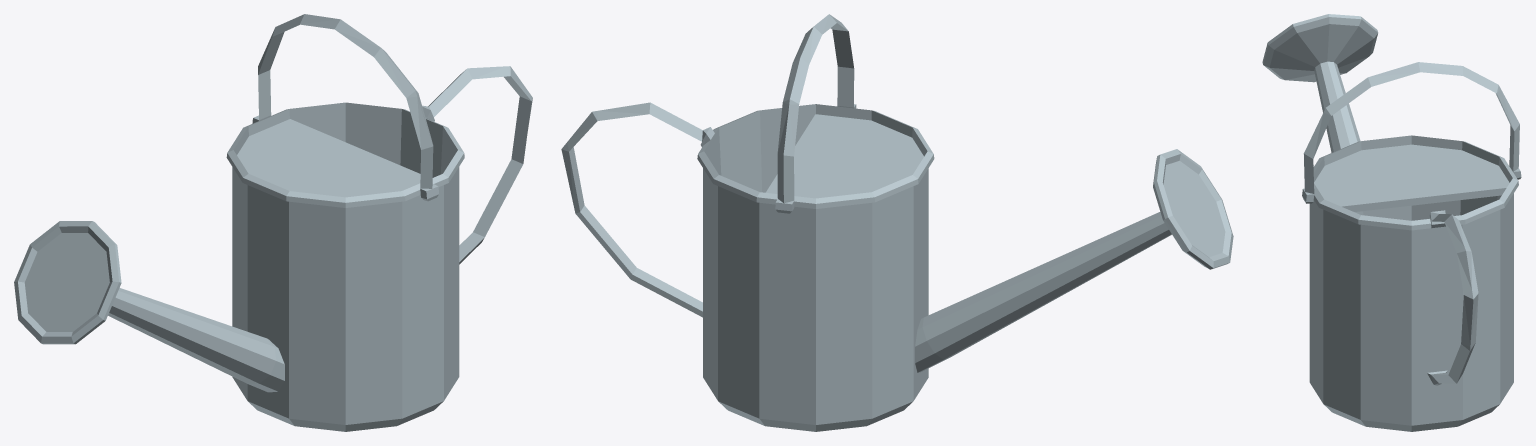
The model's file is Watercan.fbx.
The picture shows the model from 3 angles, left to right: view 1: azimuth 30°, elevation 25°; view 2: azimuth 150°, elevation 25°; view 3: azimuth 270°, elevation 25°; orthographic projection. The views are drawn at different scales.
Visible parts, largest first — view 1: WaterCan; view 2: WaterCan; view 3: WaterCan.
Part boxes in pixels (<box>): WaterCan: <box>14,14,532,431</box>; WaterCan: <box>561,14,1233,431</box>; WaterCan: <box>1262,14,1521,431</box>.
Bounding box in the file's own units: 8.6 × 5.16 × 3.66.
